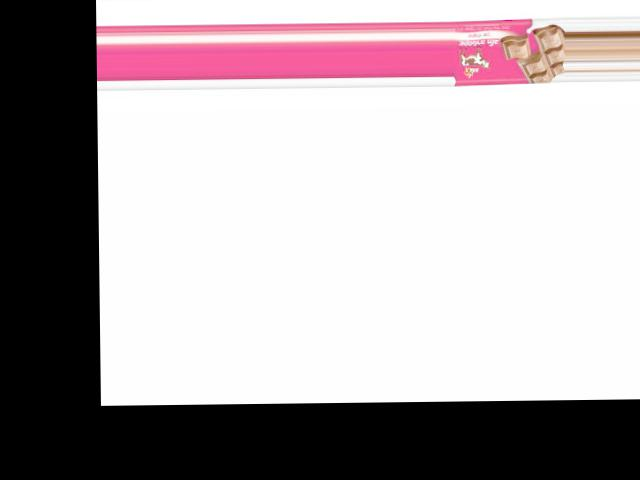chocolate: (452, 19, 563, 85)
